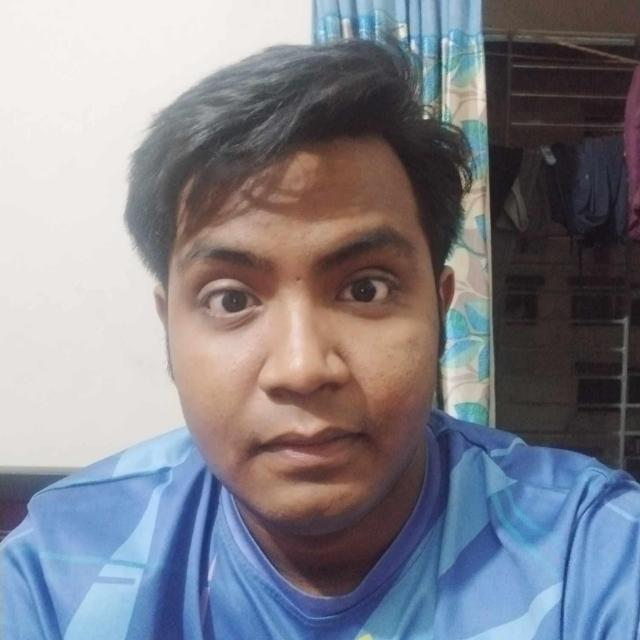Surprised: (75, 50, 569, 601)
